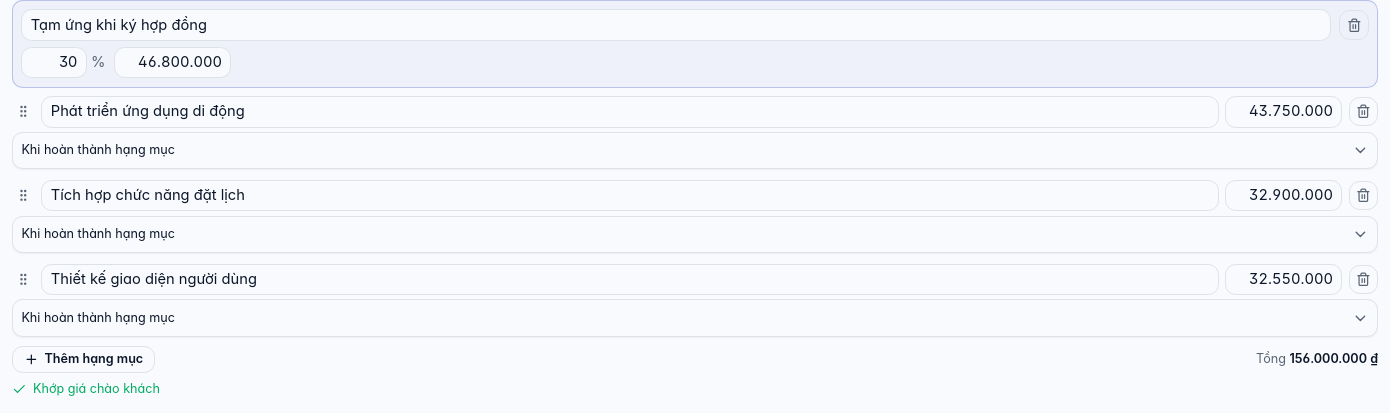
Test: LineItemsEditor — thời điểm thu của hạng mục thường › không còn mời chọn "Khi ký hợp đồng" — khoản thu trước đã có hàng riêng
The image size is (1390, 413).
Step 1. Click the dropdown named "Thời điểm thu hạng mục" → (98, 150), box [12,132,1378,170]
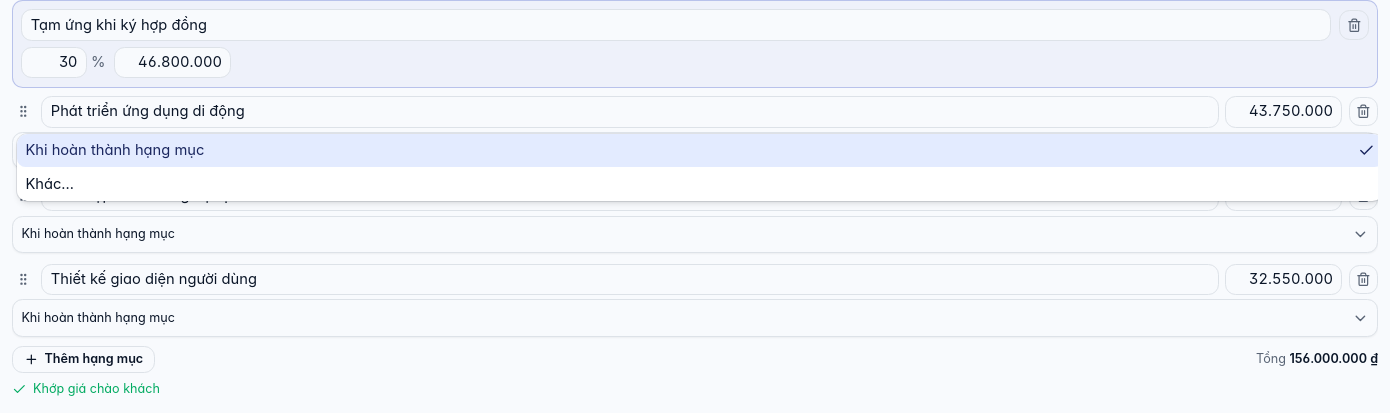
Step 2. Press Escape
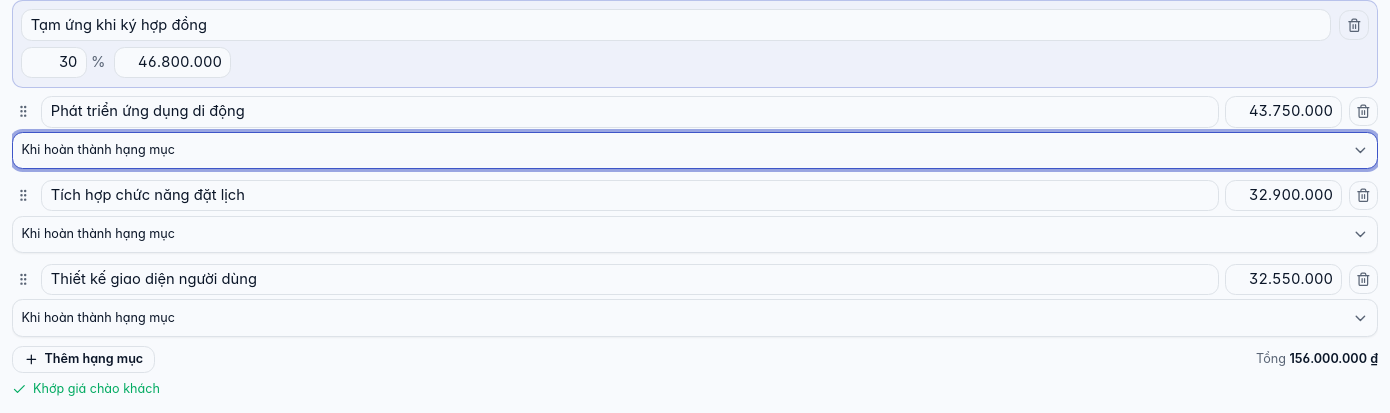
Expected: the list is gone
